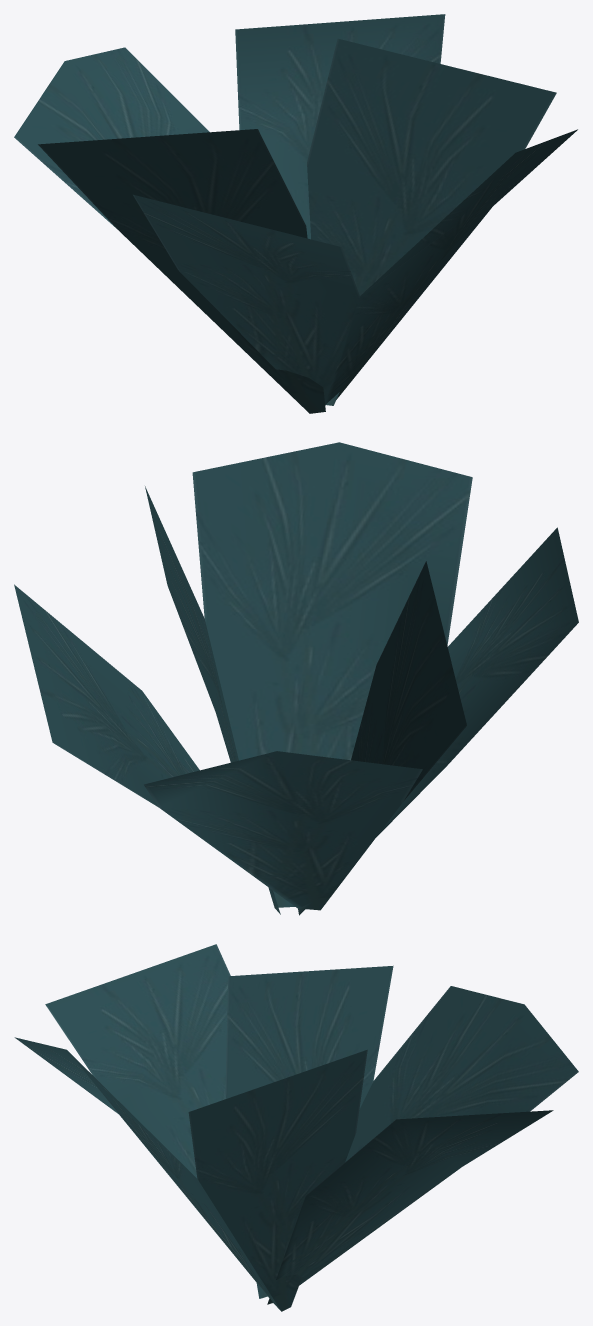
File: swamp_bush_a.fbx
The picture shows the model from 3 angles, top to bottom: view 1: azimuth 30°, elevation 25°; view 2: azimuth 150°, elevation 25°; view 3: azimuth 270°, elevation 25°; orthographic projection. The views are drawn at different scales.
Visible parts, largest first — view 1: fronds2, fronds1; view 2: fronds2, fronds1; view 3: fronds1, fronds2.
Boxes of the visible parts, left/top/right/bottom form: fronds2: left=133, top=38, right=577, bottom=405; fronds1: left=14, top=14, right=445, bottom=413; fronds2: left=145, top=442, right=578, bottom=915; fronds1: left=14, top=561, right=466, bottom=910; fronds1: left=225, top=965, right=578, bottom=1304; fronds2: left=14, top=944, right=367, bottom=1311.
Size of the model in its own units: 703 by 522 by 925.
1 material, 1 textured.
